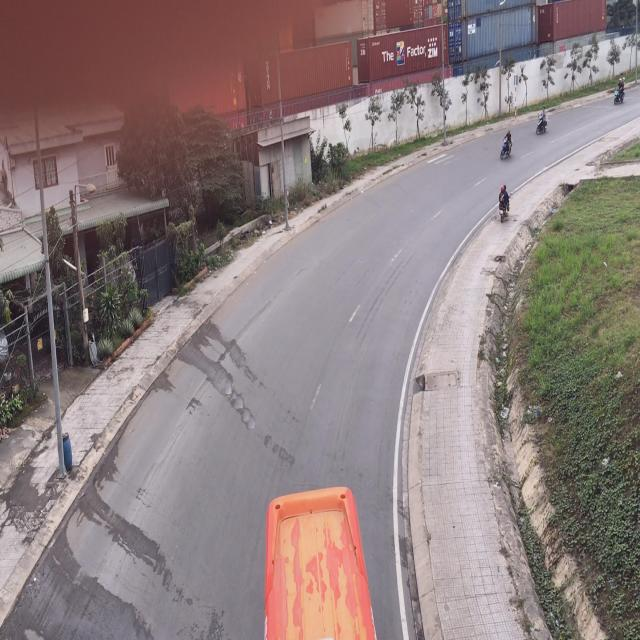bus: (261, 483, 378, 640)
motorbike: (494, 186, 512, 226), (499, 130, 513, 162), (615, 72, 627, 107), (535, 108, 548, 136)
